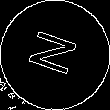N_E: (25, 28, 85, 82)
